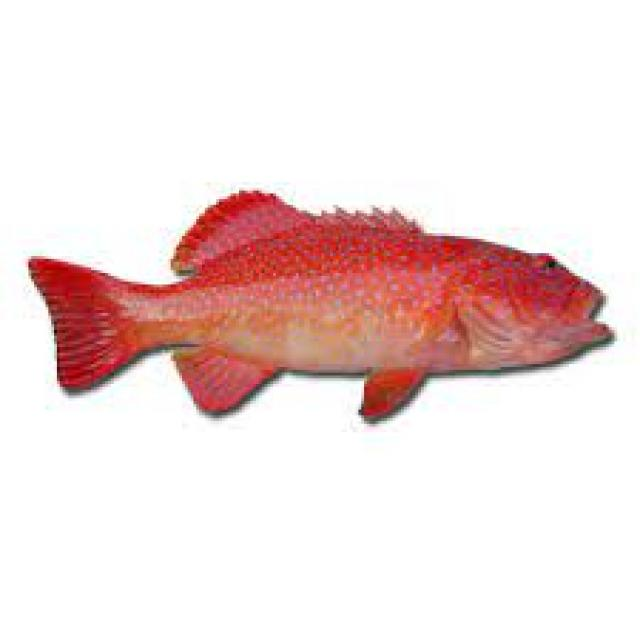Plectropomus-leopardus: (0, 172, 638, 422)
